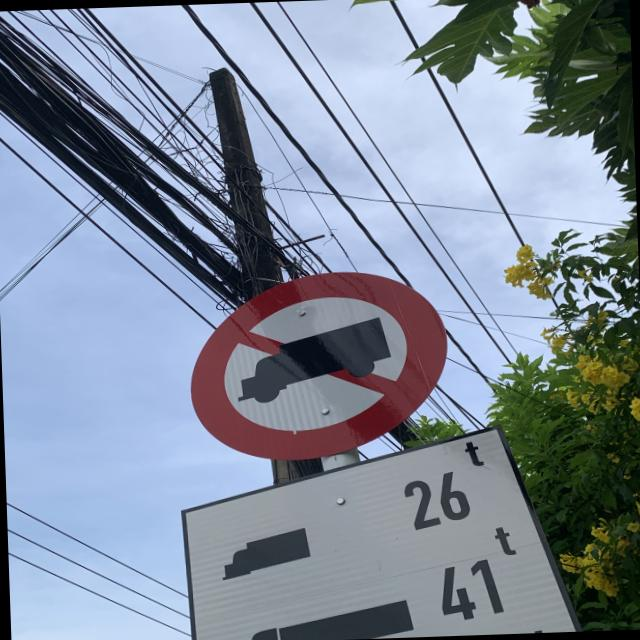Cam_Xe_Tai: (182, 268, 451, 464)
